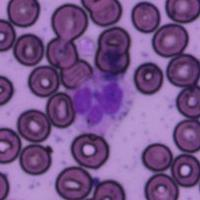N: (70, 68, 135, 134)
